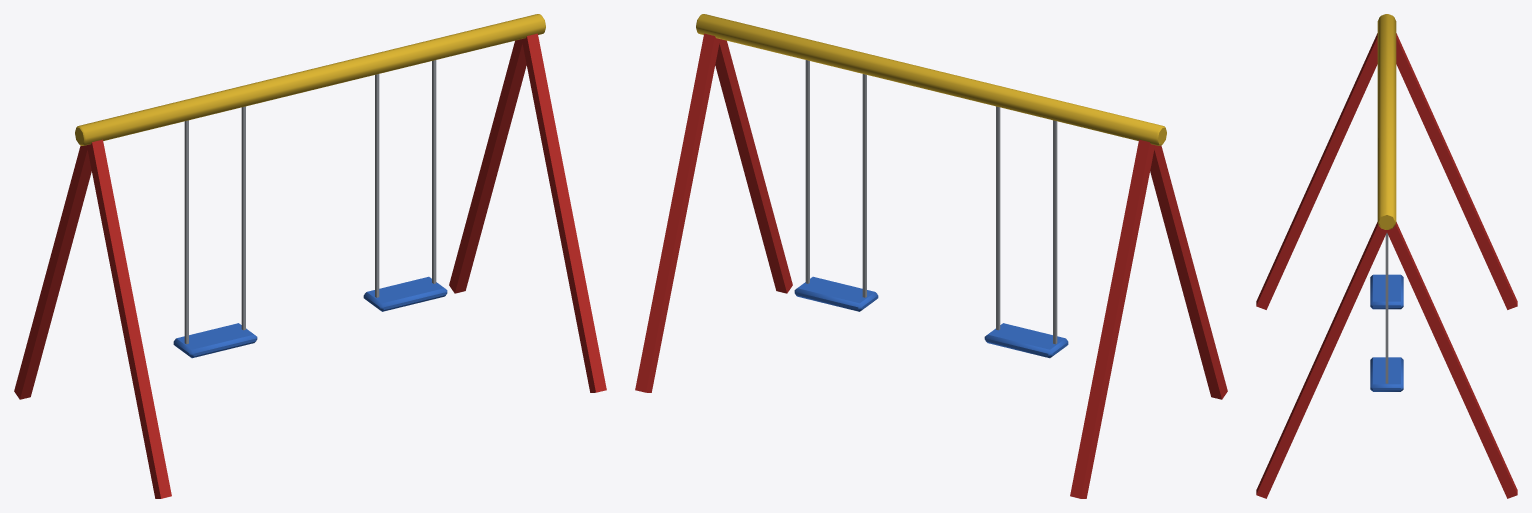
Rendered from Swing.fbx.
The picture shows the model from 3 angles, left to right: view 1: azimuth 30°, elevation 25°; view 2: azimuth 150°, elevation 25°; view 3: azimuth 270°, elevation 25°; orthographic projection. The views are drawn at different scales.
Visible parts, largest first — view 1: Swing; view 2: Swing; view 3: Swing.
Part boxes in pixels (box(x1,y1,x2,y2)): Swing: box(14, 14, 606, 498); Swing: box(635, 14, 1227, 498); Swing: box(1256, 14, 1517, 498).
Size of the model in its own units: 3.4 by 2.28 by 1.87.
